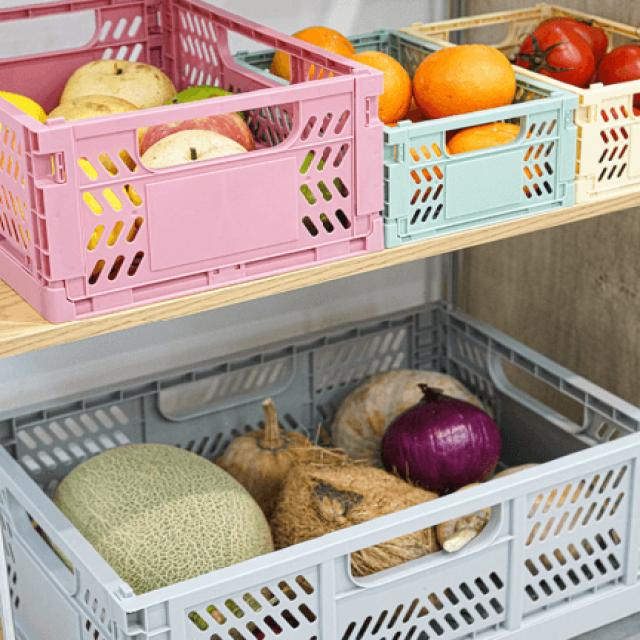basket: (0, 0, 384, 323), (355, 64, 601, 248), (516, 65, 640, 201), (347, 17, 439, 78)
